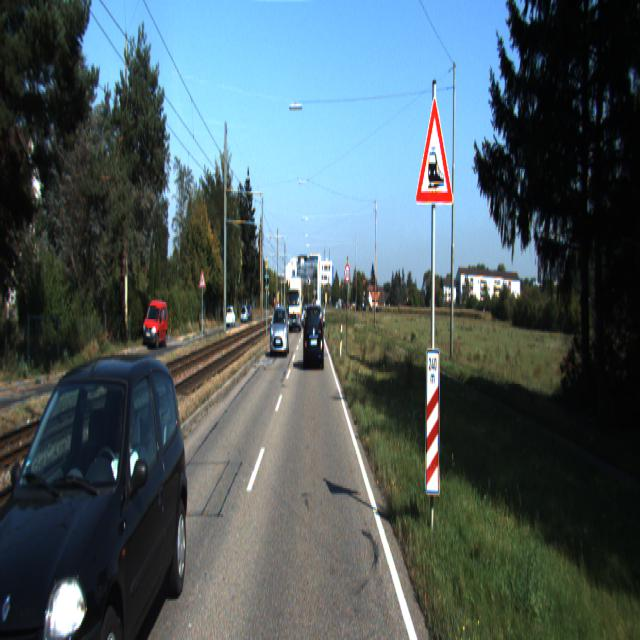Car: (0, 340, 196, 638), (304, 305, 324, 373), (144, 302, 168, 352), (271, 305, 290, 359), (288, 276, 302, 335)
